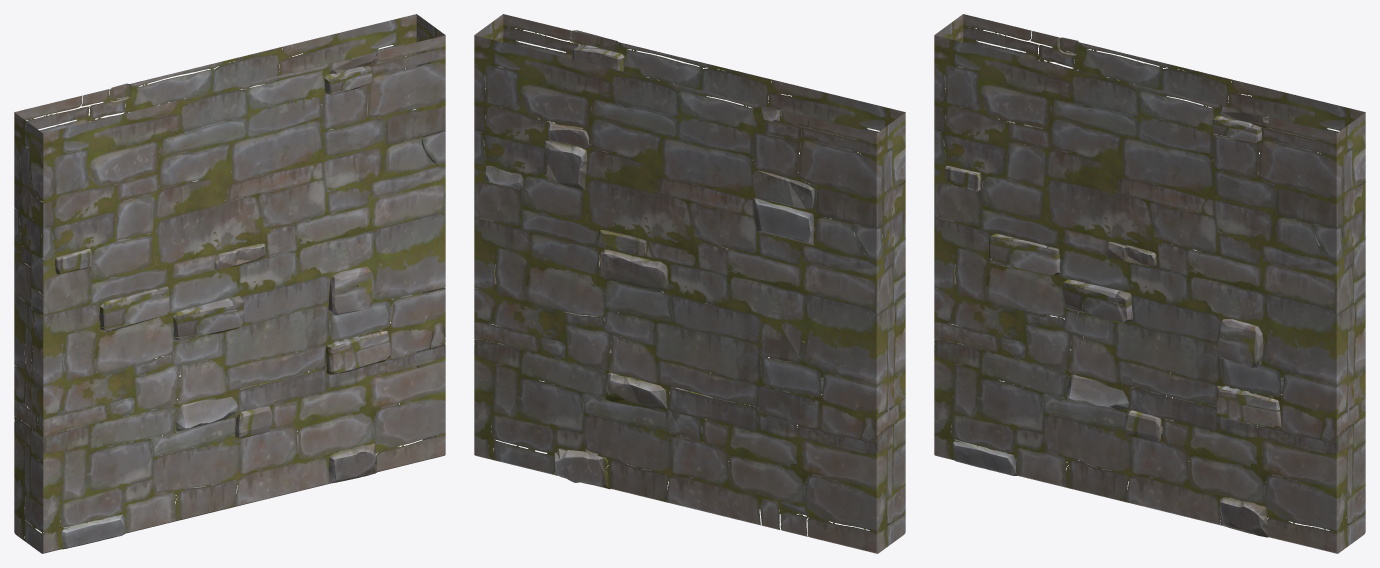
3 renders of one model, left to right at view 1: azimuth 30°, elevation 25°; view 2: azimuth 150°, elevation 25°; view 3: azimuth 330°, elevation 25°, orthographic.
Parts seen in each view (by area): view 1: SM_Castle_Wall_4x4_01_LOD0; view 2: SM_Castle_Wall_4x4_01_LOD0; view 3: SM_Castle_Wall_4x4_01_LOD0.
Part boxes in pixels (bbox=[...]): SM_Castle_Wall_4x4_01_LOD0: bbox=[14, 14, 445, 553]; SM_Castle_Wall_4x4_01_LOD0: bbox=[474, 14, 905, 553]; SM_Castle_Wall_4x4_01_LOD0: bbox=[934, 14, 1365, 553].
Size of the model in its own units: 4 by 4 by 0.6433.
1 material, 1 textured.
